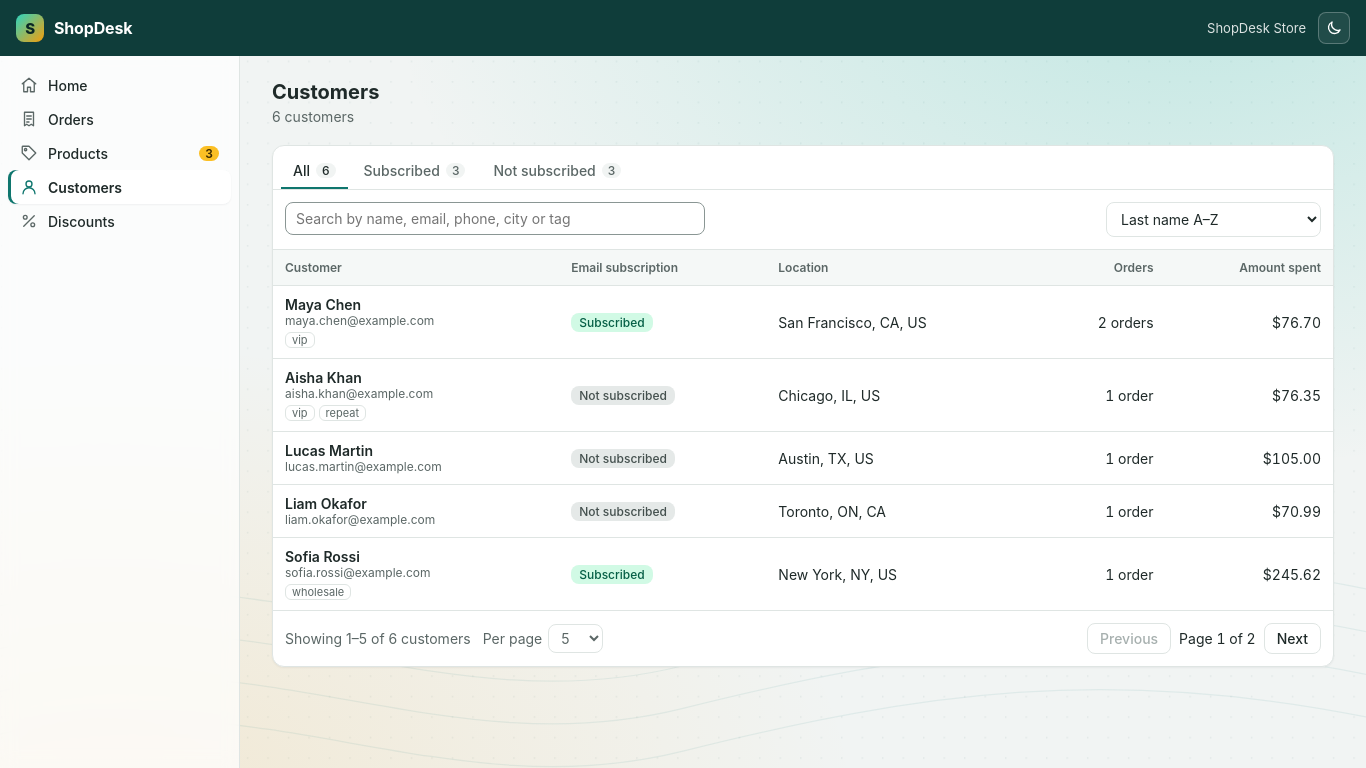
Test: CustomersPage › sorting › sorts by last name in reverse
Select "Last name Z–A" in the dropdown named "Sort customers" at {"x": 1214, "y": 220}, box 1106,202 -> 1321,237
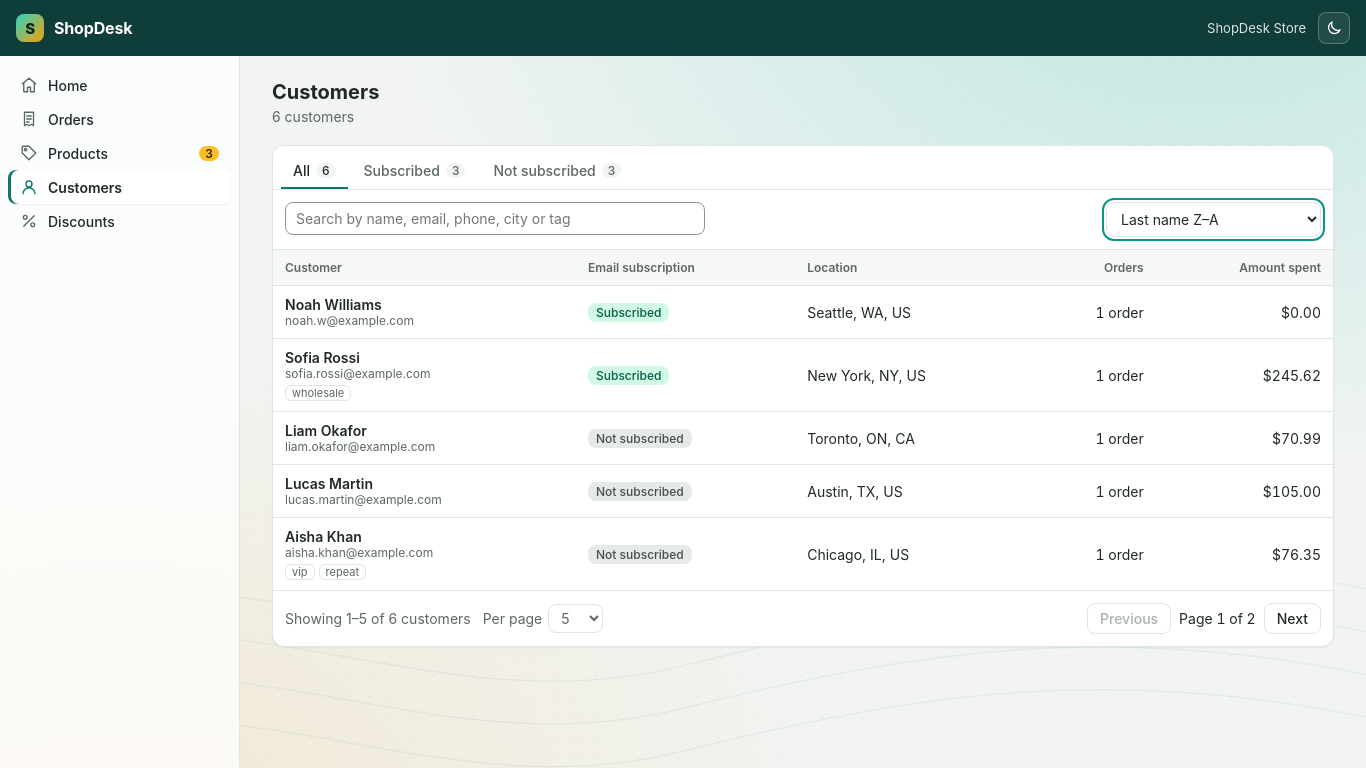
Expected: the link "Noah Williams" is shown, 285,296 -> 382,313
